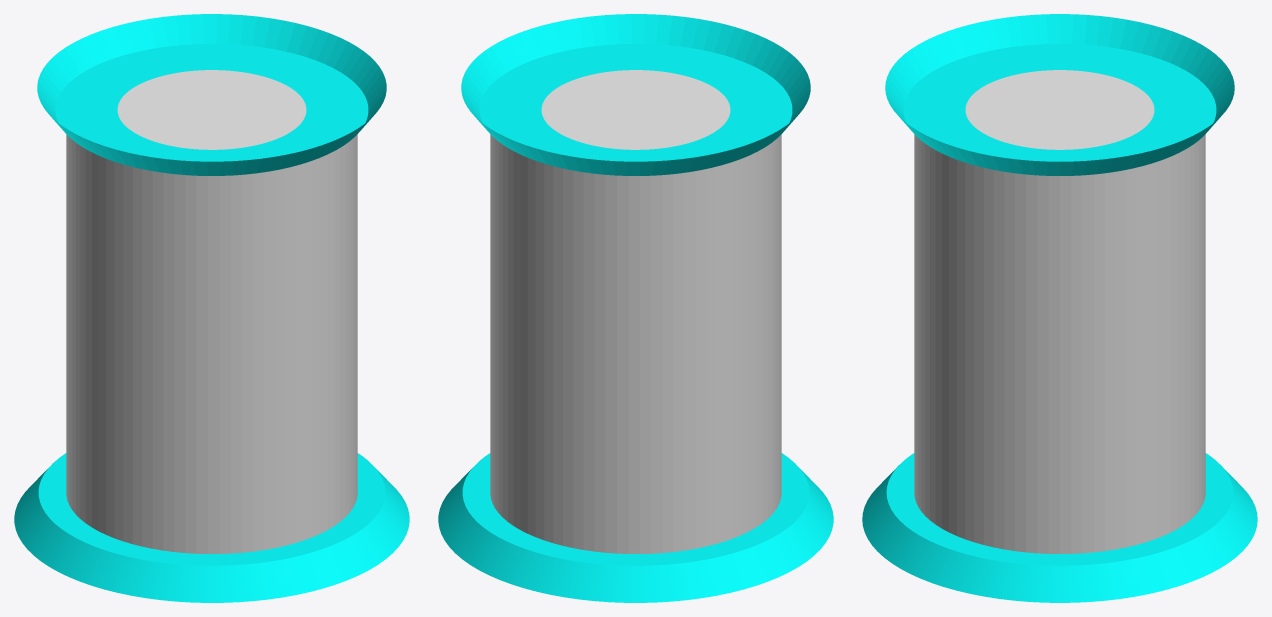
File: Machine.fbx
3 renders of one model, left to right at view 1: azimuth 30°, elevation 25°; view 2: azimuth 150°, elevation 25°; view 3: azimuth 270°, elevation 25°, orthographic.
Parts seen in each view (by area): view 1: Machine; view 2: Machine; view 3: Machine.
Part boxes in pixels (bbox=[...]): Machine: bbox=[14, 14, 409, 602]; Machine: bbox=[438, 14, 833, 602]; Machine: bbox=[862, 14, 1257, 602].
Size of the model in its own units: 0.04 by 0.0482 by 0.04.
